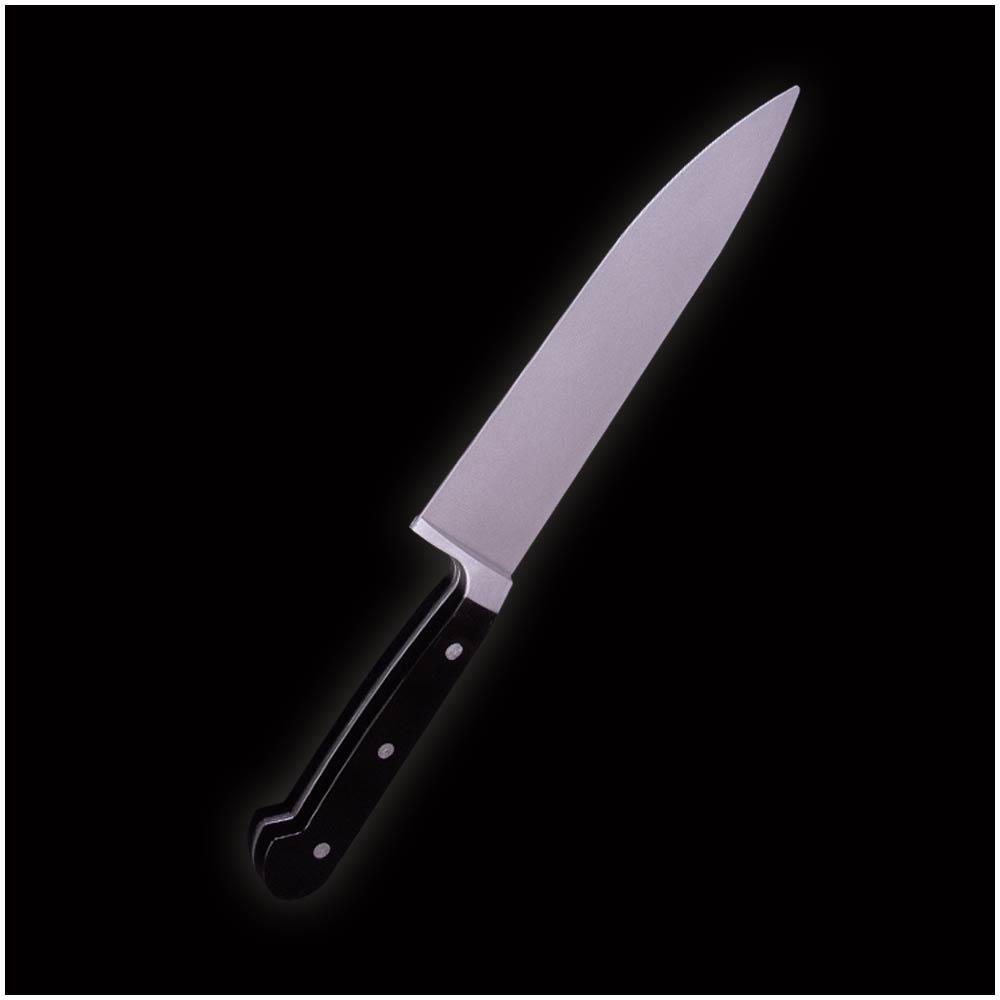knife: (258, 80, 803, 898)
